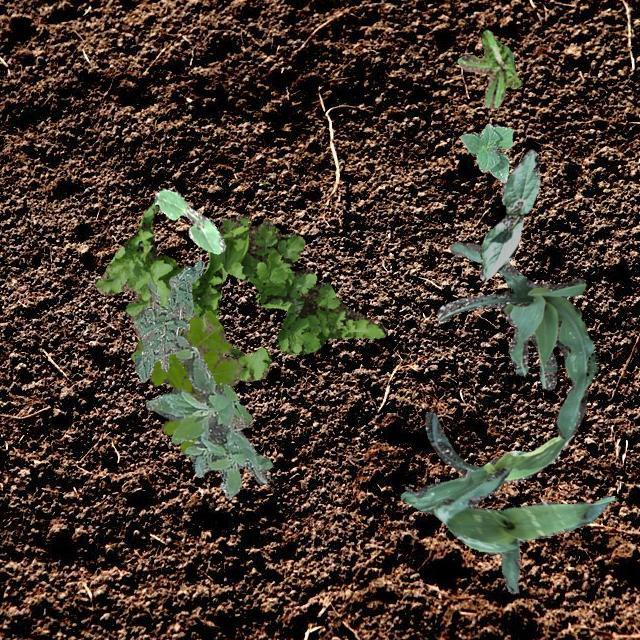crop: (436, 240, 596, 438), (432, 466, 614, 592), (399, 410, 572, 512), (478, 148, 540, 280), (154, 188, 224, 252), (458, 122, 512, 182)
weed: (94, 198, 386, 380), (146, 334, 272, 498), (130, 310, 240, 452), (132, 259, 202, 382), (456, 28, 520, 108)
